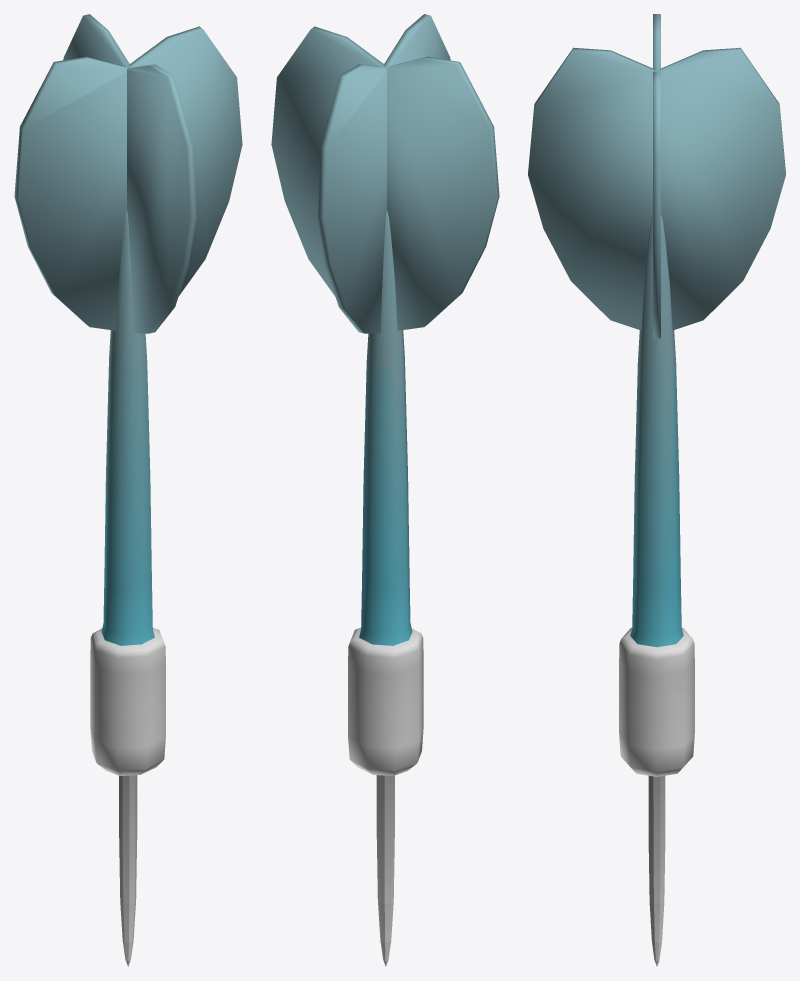
The model's file is SM_dart_blue_light.fbx.
The picture shows the model from 3 angles, left to right: view 1: azimuth 30°, elevation 25°; view 2: azimuth 150°, elevation 25°; view 3: azimuth 270°, elevation 25°; orthographic projection.
Parts seen in each view (by area): view 1: Cube.011; view 2: Cube.011; view 3: Cube.011.
Part boxes in pixels (bbox=[...]): Cube.011: bbox=[14, 14, 242, 966]; Cube.011: bbox=[271, 14, 499, 966]; Cube.011: bbox=[528, 14, 785, 966].
Bounding box in the file's own units: 388 × 1521 × 388.
